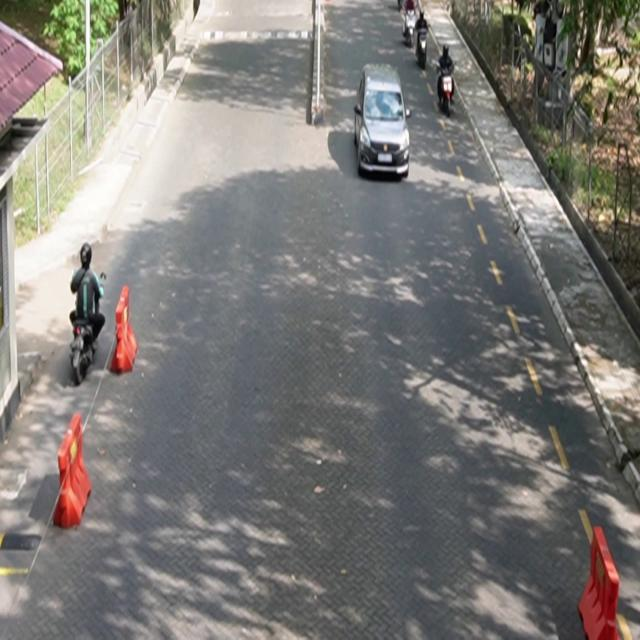car: (354, 63, 412, 180)
